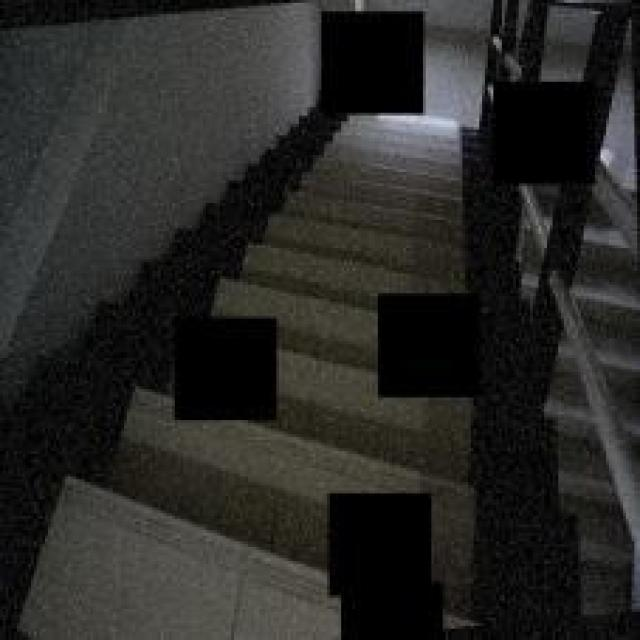downstair: (280, 145, 483, 294)
